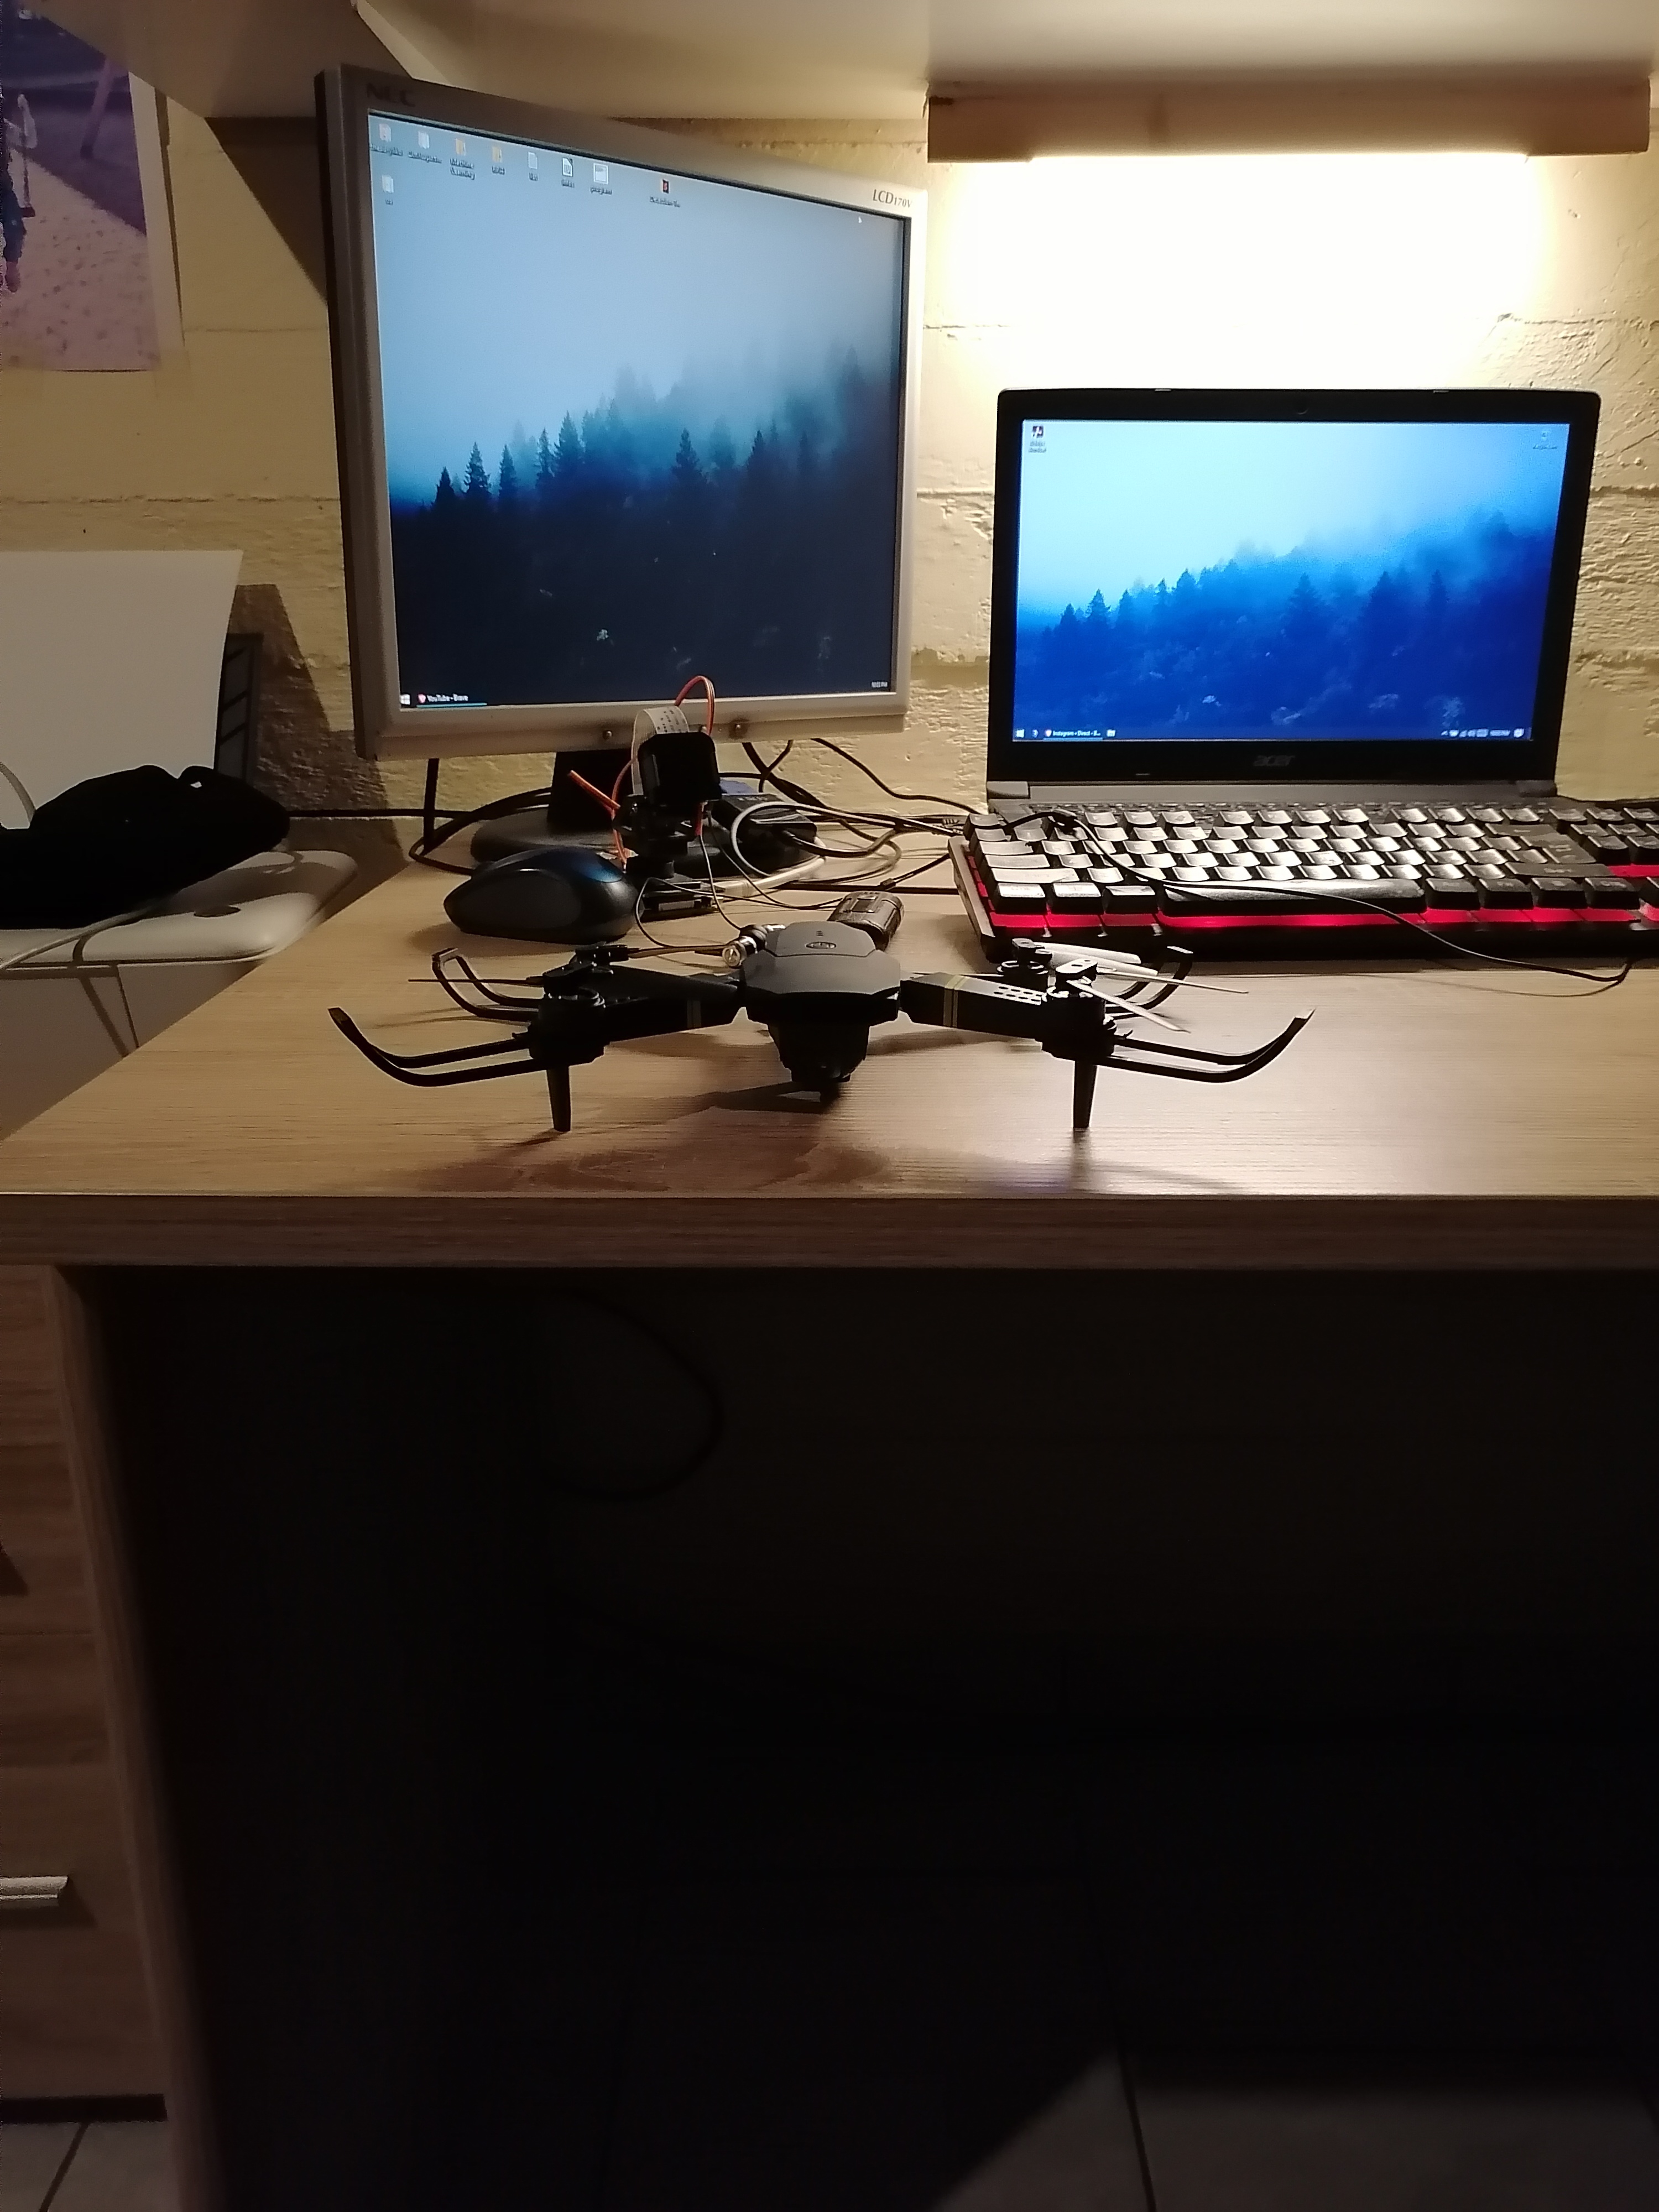drone: (308, 906, 1312, 1151)
